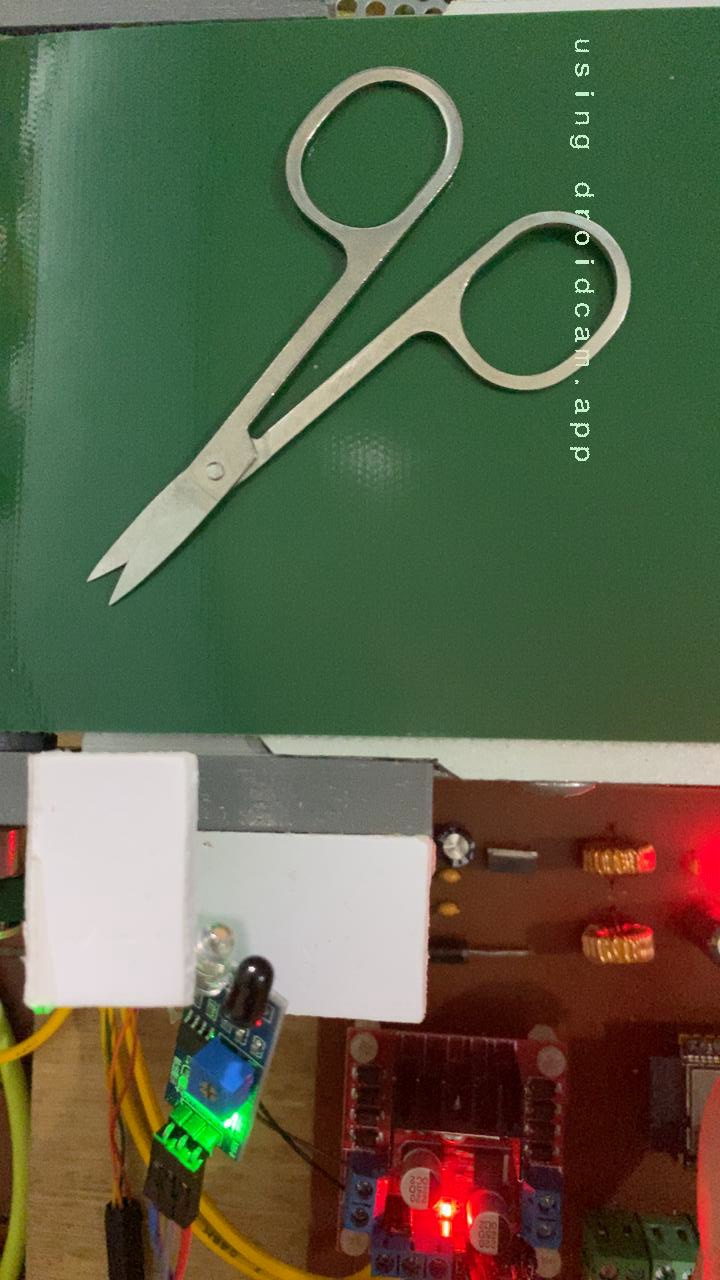scissor: (81, 61, 639, 611)
